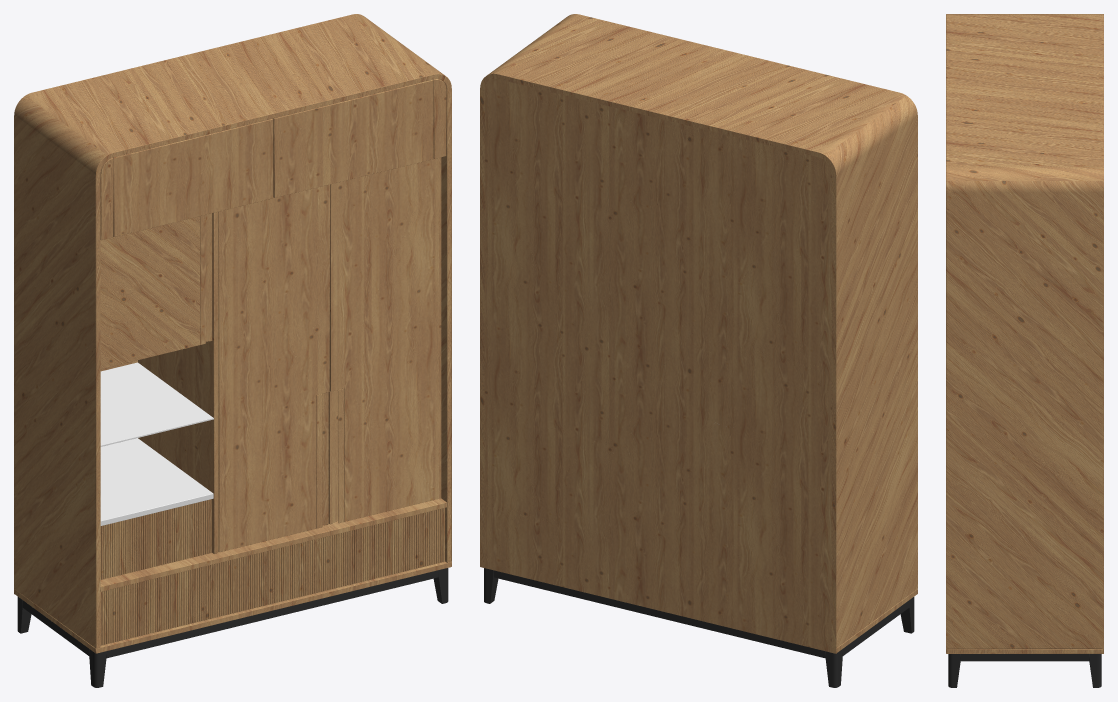
File: versastorage_modular_cabinet_size02.glb
3 views of the same model, side by side, from view 1: azimuth 30°, elevation 25°; view 2: azimuth 150°, elevation 25°; view 3: azimuth 270°, elevation 25° (orthographic). The views are drawn at different scales.
Visible parts, largest first — view 1: Yalta_shkaf; view 2: Yalta_shkaf; view 3: Yalta_shkaf.
Part boxes in pixels (x1,y1,x2,y2): Yalta_shkaf: [14, 14, 451, 687]; Yalta_shkaf: [480, 14, 917, 687]; Yalta_shkaf: [946, 14, 1103, 687].
Size of the model in its own units: 1.61 by 2.3 by 0.64.
5 materials, 2 textured.
